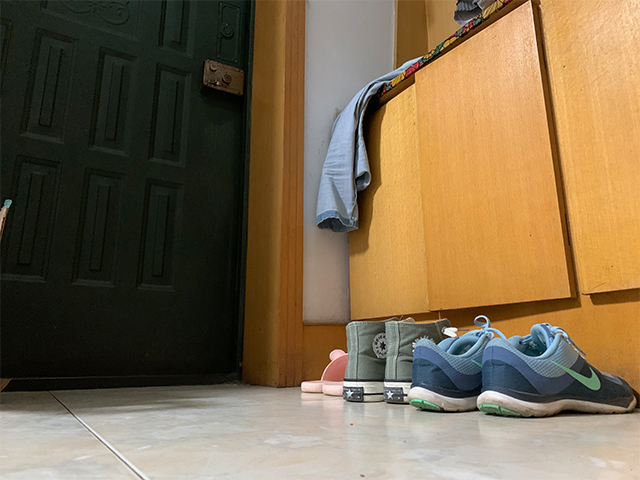cabinet: (343, 1, 640, 408)
slippers: (298, 347, 348, 396)
